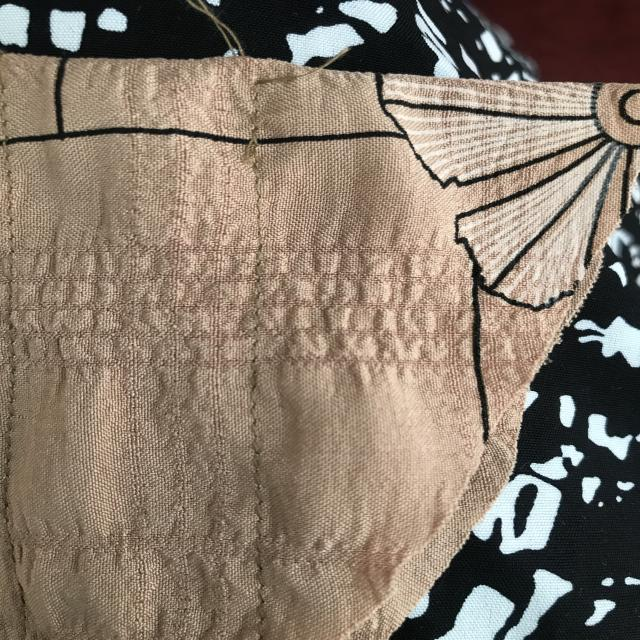good: (240, 458, 282, 564)
